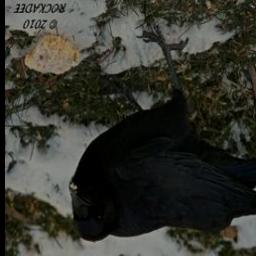Crow: (68, 26, 256, 243)
